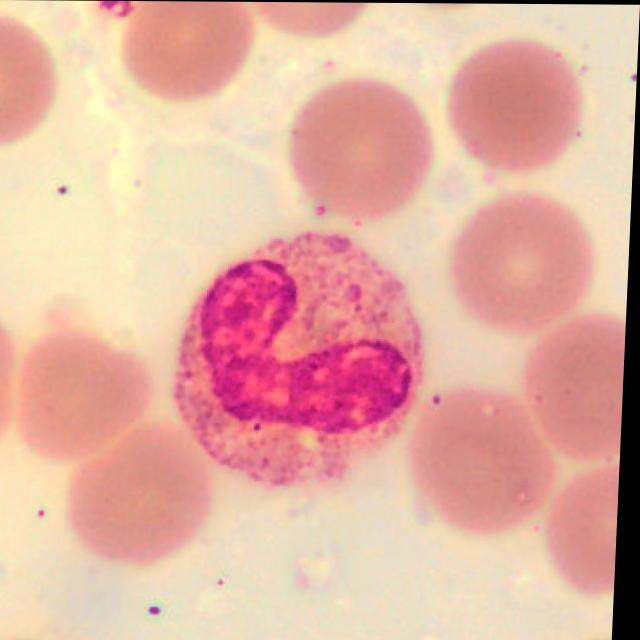Bastonete: (175, 230, 430, 488)
